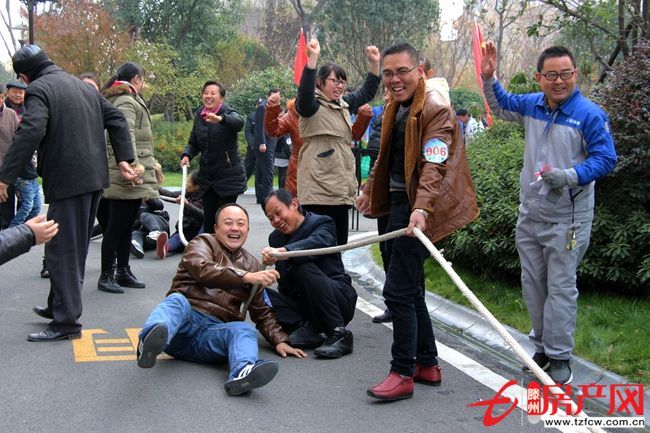10+: (1, 39, 622, 397)
down: (130, 193, 276, 401), (260, 177, 376, 379), (144, 161, 224, 258), (127, 170, 173, 259)
